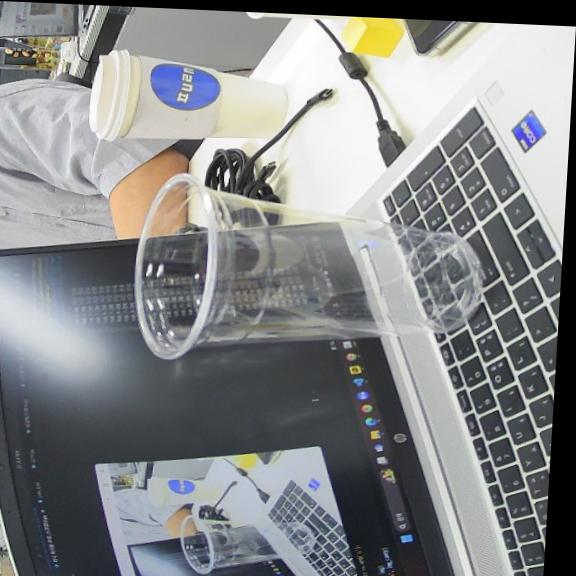Plastik: (135, 174, 482, 358)
